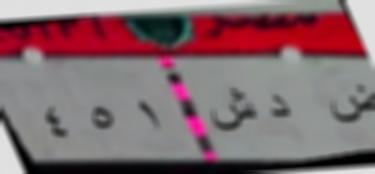1: (136, 96, 166, 137)
4: (39, 106, 74, 142)
5: (84, 101, 118, 138)
daad: (326, 82, 375, 125)
daal: (269, 90, 294, 126)
sheen: (206, 84, 258, 134)
